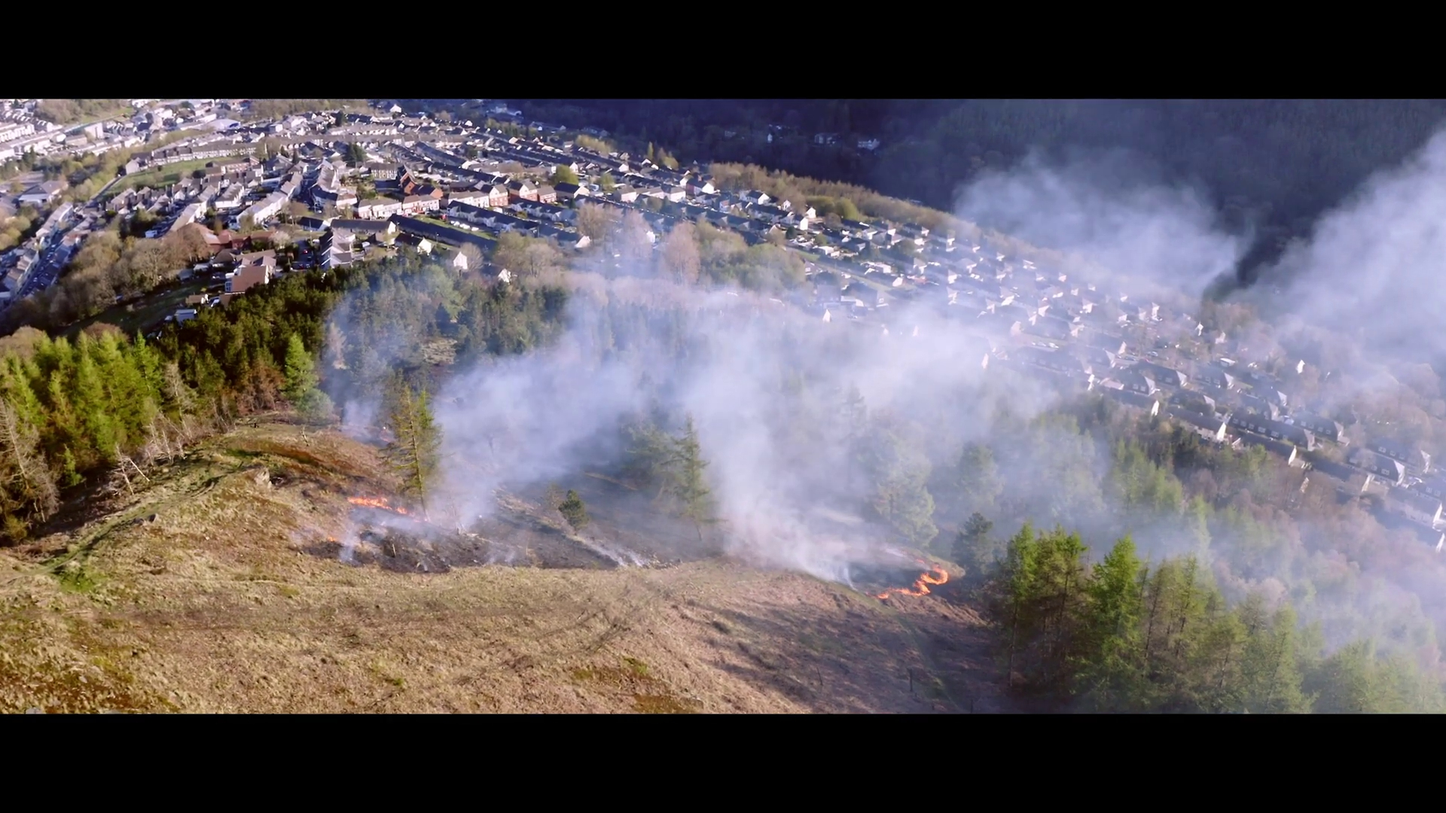forest_fire: (876, 561, 948, 599), (347, 497, 407, 514)
